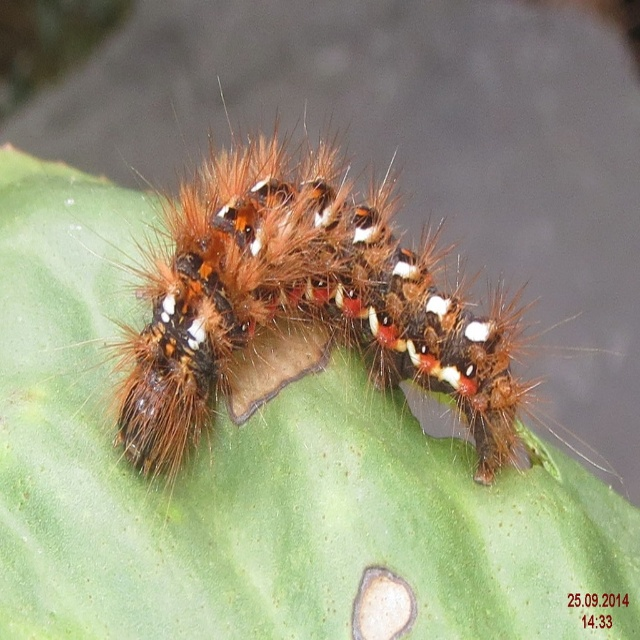Caterpillar: (18, 71, 624, 537)
